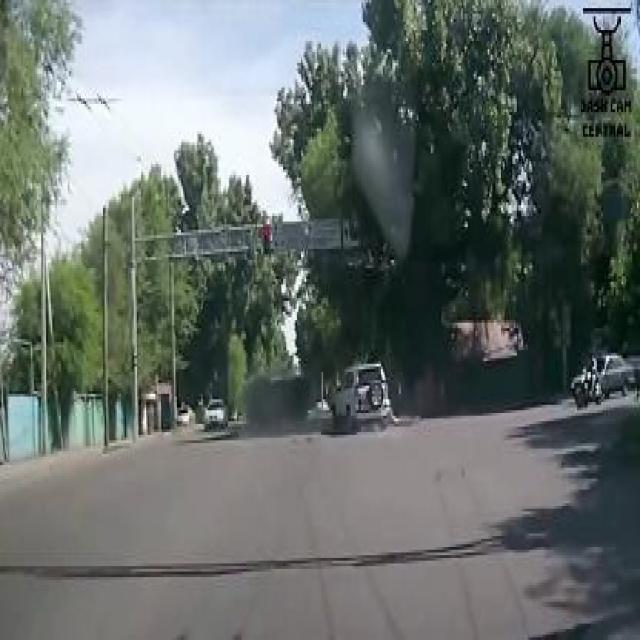accident: (235, 364, 314, 435)
